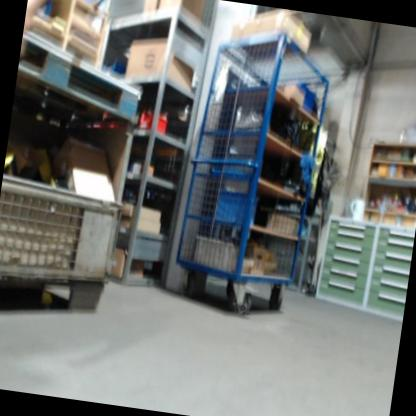pallet: (14, 34, 145, 123)
stillage: (0, 111, 132, 331)
